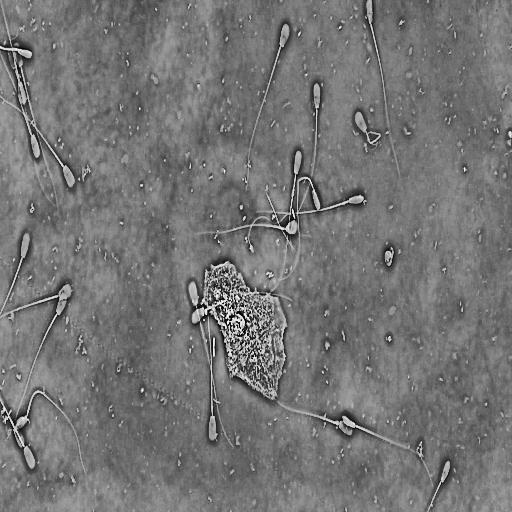dirt-particles: (200, 257, 289, 403), (383, 243, 396, 268)
folded-tail: (26, 390, 85, 472), (278, 177, 314, 280), (368, 131, 381, 141), (367, 137, 378, 145), (369, 140, 376, 143), (365, 131, 368, 137), (368, 135, 370, 140), (370, 139, 374, 140)
loose-tail: (264, 189, 296, 256), (247, 211, 292, 252)
normal: (4, 289, 70, 444), (186, 276, 235, 449), (245, 19, 291, 196), (13, 42, 59, 210), (0, 93, 76, 191), (364, 0, 401, 181), (14, 388, 88, 476), (289, 79, 322, 251), (276, 174, 322, 282), (0, 50, 41, 163), (272, 148, 303, 292), (342, 414, 419, 457), (0, 229, 33, 316), (0, 281, 73, 319), (278, 401, 355, 437), (0, 398, 37, 472), (254, 192, 366, 216), (193, 218, 301, 238), (207, 314, 218, 444), (426, 457, 452, 512), (353, 108, 382, 150)
proximal-droplet: (335, 420, 339, 425)
